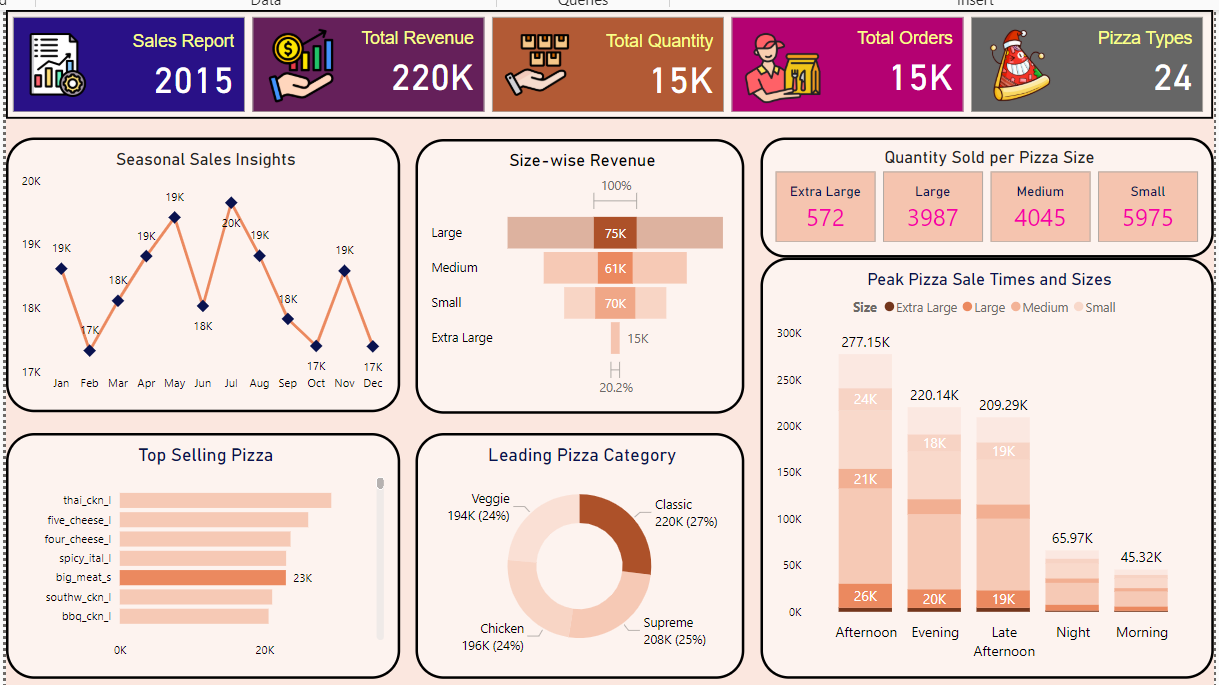

The page's visual inventory and layout, read from the dashboard file:
{"tool":"powerbi","page":{"name":"Pizza Dashboard","canvas":[1280,720],"ordinal":0},"visuals":[{"type":"donutChart","title":"Leading Pizza Category","fields":{"Y":["Sum(order_details.Sales cost)"],"Category":["order_details.Category"]},"box":[440.6,448.6,332.4,260.9],"z":0},{"type":"clusteredBarChart","title":"Top Selling Pizza","fields":{"Y":["Sum(order_details.Sales cost)"],"Category":["order_details.pizza_id"]},"box":[12.7,448.6,418.3,260.9],"z":1000},{"type":"columnChart","title":"Peak Pizza Sales Times and Sizes","fields":{"Category":["order_details.TimeCategory"],"Series":["order_details.Size"],"Y":["Sum(order_details.Revenue Collection)"]},"box":[786.2,261,479.8,448.6],"z":2000},{"type":"cardVisual","fields":{"Data":["Measures (2).Sales Report","Measures (2).Total Revenue","Measures (2).Total Quantity","Measures (2).Total Orders","Measures (2).Pizza Types"]},"box":[0,0,1280.1,115.7],"z":3000},{"type":"advancedSlicerVisual","title":"Quantity Sold per Pizza Size","fields":{"Values":["order_details.Size"]},"box":[786.2,128.2,479.8,125],"z":4000},{"type":"lineChart","title":"Seasonal Sales Insights","fields":{"Category":["order_details.Monthno"],"Y":["Sum(order_details.Revenue Collection)"]},"box":[12.7,128.8,418.3,308.6],"z":5000},{"type":"funnel","title":"Size-wise Revenue","fields":{"Y":["Sum(order_details.Revenue Collection)"],"Category":["order_details.Size"]},"box":[440.6,128.8,332.4,308.6],"z":6000}]}

Visuals, with their boxes on the page's 1280x720 design canvas (x1, y1, x2, y2). These are canvas units, not pixel positions in the 1219x685 screenshot, which may show the page scaled, cropped or inside an application window:
"Leading Pizza Category" donutChart: 441,449,773,710
"Top Selling Pizza" clusteredBarChart: 13,449,431,710
"Peak Pizza Sales Times and Sizes" columnChart: 786,261,1266,710
cardVisual - Measures (2).Sales Report x Measures (2).Total Revenue: 0,0,1280,116
"Quantity Sold per Pizza Size" advancedSlicerVisual: 786,128,1266,253
"Seasonal Sales Insights" lineChart: 13,129,431,437
"Size-wise Revenue" funnel: 441,129,773,437
